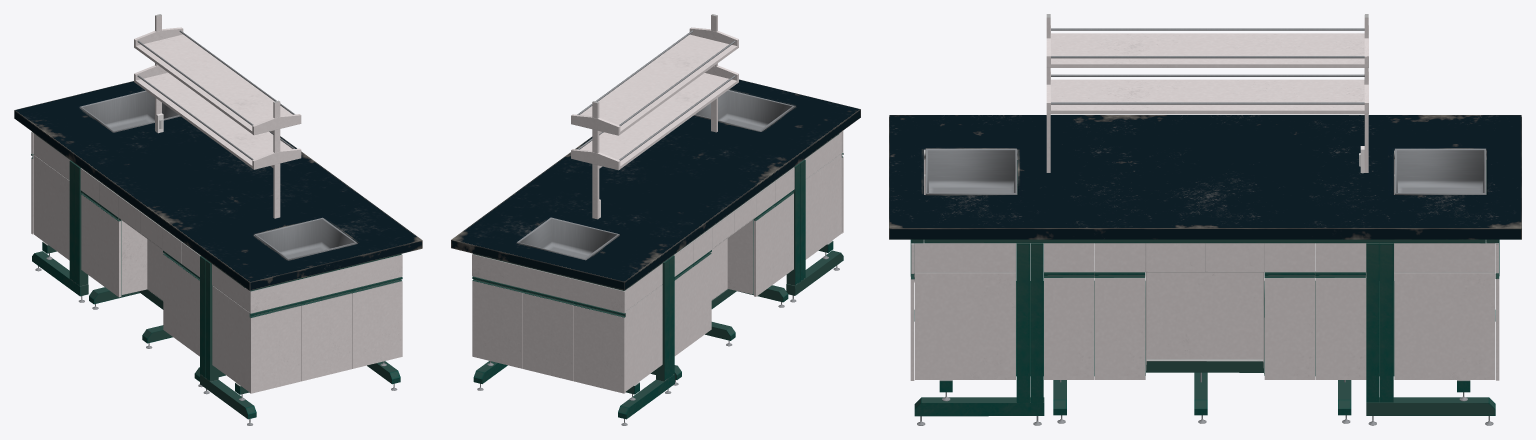
File: tablelab.fbx
3 renders of one model, left to right at view 1: azimuth 30°, elevation 25°; view 2: azimuth 150°, elevation 25°; view 3: azimuth 270°, elevation 25°, orthographic. The views are drawn at different scales.
Parts seen in each view (by area): view 1: Object_2, Object_3; view 2: Object_2, Object_3; view 3: Object_2, Object_3.
Part boxes in pixels (left/top/right/bottom): Object_2: left=14, top=27, right=422, bottom=425; Object_3: left=81, top=14, right=301, bottom=393; Object_2: left=451, top=27, right=860, bottom=425; Object_3: left=592, top=14, right=843, bottom=379; Object_2: left=889, top=25, right=1521, bottom=425; Object_3: left=1016, top=14, right=1394, bottom=415.
Bounding box in the file's own units: 2056 × 3063 × 4843.
